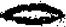Mouth: (0, 4, 65, 26)
